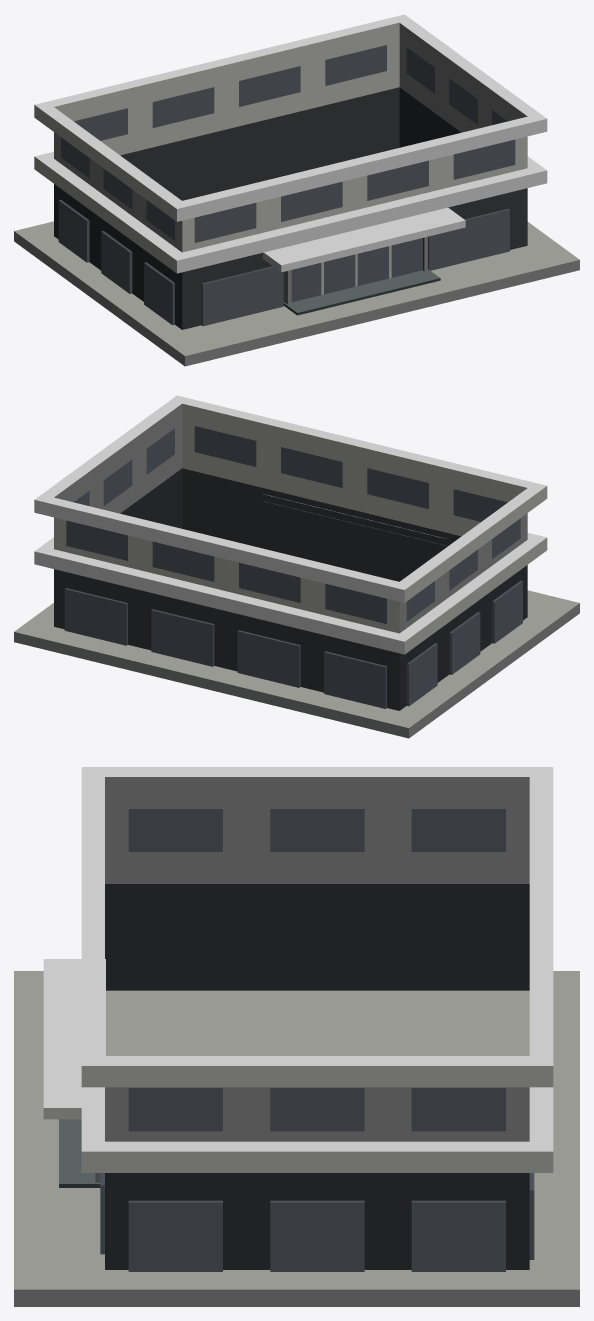
File: TB_CITY_Skysc_E_Bottom_Gray.FBX
3 renders of one model, top to bottom at view 1: azimuth 30°, elevation 25°; view 2: azimuth 150°, elevation 25°; view 3: azimuth 270°, elevation 25°, orthographic. The views are drawn at different scales.
Visible parts, largest first — view 1: TB_CITY_Skysc_E_Bottom_Gray; view 2: TB_CITY_Skysc_E_Bottom_Gray; view 3: TB_CITY_Skysc_E_Bottom_Gray.
Boxes of the visible parts, left/top/right/bottom form: TB_CITY_Skysc_E_Bottom_Gray: left=14, top=14, right=579, bottom=366; TB_CITY_Skysc_E_Bottom_Gray: left=14, top=395, right=579, bottom=738; TB_CITY_Skysc_E_Bottom_Gray: left=14, top=767, right=579, bottom=1306.
Size of the model in its own units: 32 by 10.8 by 24.
